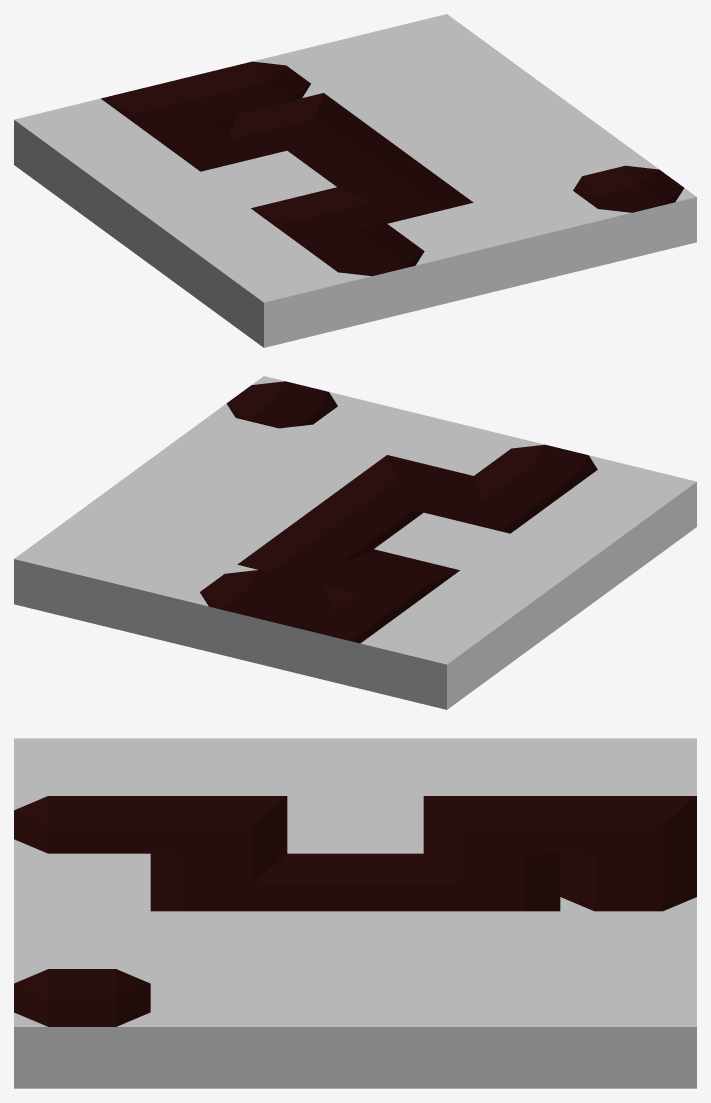
The picture shows the model from 3 angles, top to bottom: view 1: azimuth 30°, elevation 25°; view 2: azimuth 150°, elevation 25°; view 3: azimuth 270°, elevation 25°; orthographic projection. The views are drawn at different scales.
Visible parts, largest first — view 1: foil.block.0.0_block.11578, foil.block.3.0_block.11585, foil.block.4.0_Cube.025, foil.block.2.0_block.11584, foil.ending.1.0_ending.1363, foil.block.0.2_block.11580, foil.block.0.3_block.11581, foil.block.0.4_block.11582, foil.block.0.1_block.11579, foil.corner.2.3_corner.3425, foil.ending.2.4_ending.1364, foil.corner.1.4_corner.3423 (+13 smaller); view 2: foil.block.0.4_block.11582, foil.ending.2.4_ending.1364, foil.block.3.4_block.11589, foil.block.4.4_block.11594, foil.corner.1.4_corner.3423, foil.block.0.0_block.11578, foil.block.0.1_block.11579, foil.block.0.2_block.11580, foil.block.0.3_block.11581, foil.corner.2.1_corner.3424, foil.ending.1.0_ending.1363, foil.corner.1.3_corner.3422 (+13 smaller); view 3: foil.block.4.1_block.11591, foil.block.4.3_block.11593, foil.block.4.0_Cube.025, foil.block.4.2_block.11592, foil.block.4.4_block.11594, foil.corner.1.1_corner.3421, foil.corner.1.3_corner.3422, foil.corner.1.4_corner.3423, foil.block.2.0_block.11584, foil.through.2.2_through.667, foil.block.0.1_block.11579, foil.block.0.3_block.11581 (+13 smaller).
Part boxes in pixels (left/top/right/bottom): foil.block.0.0_block.11578: left=214, top=245, right=350, bottom=347; foil.block.3.0_block.11585: left=474, top=181, right=610, bottom=284; foil.block.4.0_Cube.025: left=560, top=160, right=696, bottom=263; foil.block.2.0_block.11584: left=387, top=202, right=523, bottom=305; foil.ending.1.0_ending.1363: left=301, top=224, right=437, bottom=326; foil.block.0.2_block.11580: left=114, top=172, right=249, bottom=274; foil.block.0.3_block.11581: left=64, top=135, right=200, bottom=237; foil.block.0.4_block.11582: left=14, top=98, right=149, bottom=201; foil.block.0.1_block.11579: left=164, top=208, right=299, bottom=310; foil.corner.2.3_corner.3425: left=237, top=93, right=373, bottom=156; foil.ending.2.4_ending.1364: left=187, top=56, right=323, bottom=115; foil.corner.1.4_corner.3423: left=101, top=77, right=236, bottom=140; foil.block.0.4_block.11582: left=360, top=607, right=496, bottom=709; foil.ending.2.4_ending.1364: left=187, top=564, right=323, bottom=667; foil.block.3.4_block.11589: left=100, top=543, right=236, bottom=646; foil.block.4.4_block.11594: left=14, top=522, right=150, bottom=625; foil.corner.1.4_corner.3423: left=273, top=586, right=409, bottom=688; foil.block.0.0_block.11578: left=561, top=460, right=696, bottom=563; foil.block.0.1_block.11579: left=510, top=497, right=646, bottom=599; foil.block.0.2_block.11580: left=461, top=534, right=596, bottom=636; foil.block.0.3_block.11581: left=411, top=570, right=546, bottom=672; foil.corner.2.1_corner.3424: left=337, top=455, right=473, bottom=518; foil.ending.1.0_ending.1363: left=474, top=439, right=609, bottom=502; foil.corner.1.3_corner.3422: left=324, top=549, right=459, bottom=612; foil.block.4.1_block.11591: left=150, top=969, right=287, bottom=1088; foil.block.4.3_block.11593: left=423, top=969, right=560, bottom=1088; foil.block.4.0_Cube.025: left=14, top=969, right=150, bottom=1088; foil.block.4.2_block.11592: left=287, top=969, right=423, bottom=1088; foil.block.4.4_block.11594: left=560, top=969, right=696, bottom=1088; foil.corner.1.1_corner.3421: left=150, top=796, right=287, bottom=868; foil.corner.1.3_corner.3422: left=423, top=796, right=560, bottom=868; foil.corner.1.4_corner.3423: left=560, top=796, right=696, bottom=868; foil.block.2.0_block.11584: left=14, top=853, right=150, bottom=911; foil.through.2.2_through.667: left=287, top=853, right=423, bottom=911; foil.block.0.1_block.11579: left=150, top=738, right=287, bottom=795; foil.block.0.3_block.11581: left=423, top=738, right=560, bottom=795.
Bounding box in the file's own units: 10 × 1 × 10.
